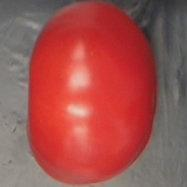unripe: (25, 0, 164, 187)
